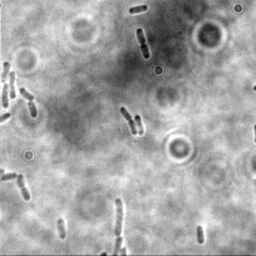Dividing: (118, 105, 139, 137), (134, 27, 152, 61), (15, 174, 32, 203), (7, 70, 18, 101)
Rod: (112, 198, 126, 239), (55, 216, 68, 243), (126, 4, 150, 17), (18, 86, 36, 103), (1, 60, 12, 84), (1, 170, 20, 183), (1, 83, 10, 110), (27, 99, 38, 120), (194, 224, 205, 245)
